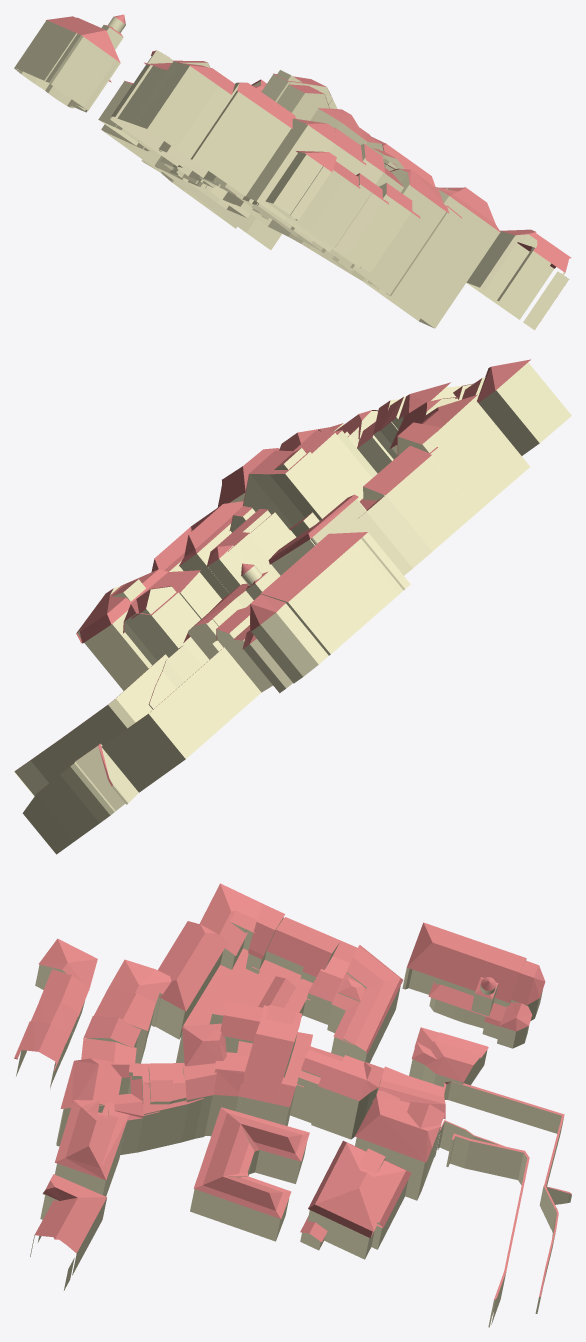
File: tile_037.glb
3 views of the same model, one above another, from view 1: azimuth 30°, elevation 25°; view 2: azimuth 150°, elevation 25°; view 3: azimuth 270°, elevation 25° (orthographic). The views are drawn at different scales.
Visible parts, largest first — view 1: Batched_Building_ID_1E58247B-BABD-4D16-AF6D-FD6752293C5C; view 2: Batched_Building_ID_1E58247B-BABD-4D16-AF6D-FD6752293C5C; view 3: Batched_Building_ID_1E58247B-BABD-4D16-AF6D-FD6752293C5C.
Boxes of the visible parts, x1,y1,x2,y2 form: Batched_Building_ID_1E58247B-BABD-4D16-AF6D-FD6752293C5C: (14, 14, 571, 330); Batched_Building_ID_1E58247B-BABD-4D16-AF6D-FD6752293C5C: (14, 359, 571, 854); Batched_Building_ID_1E58247B-BABD-4D16-AF6D-FD6752293C5C: (14, 883, 571, 1327).
Bounding box in the file's own units: 122 × 112 × 167.
